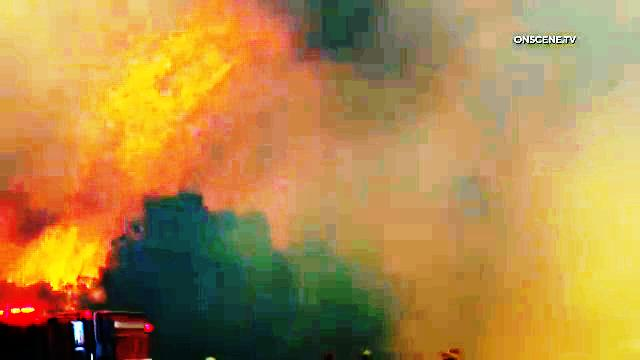fire: (29, 212, 114, 282)
